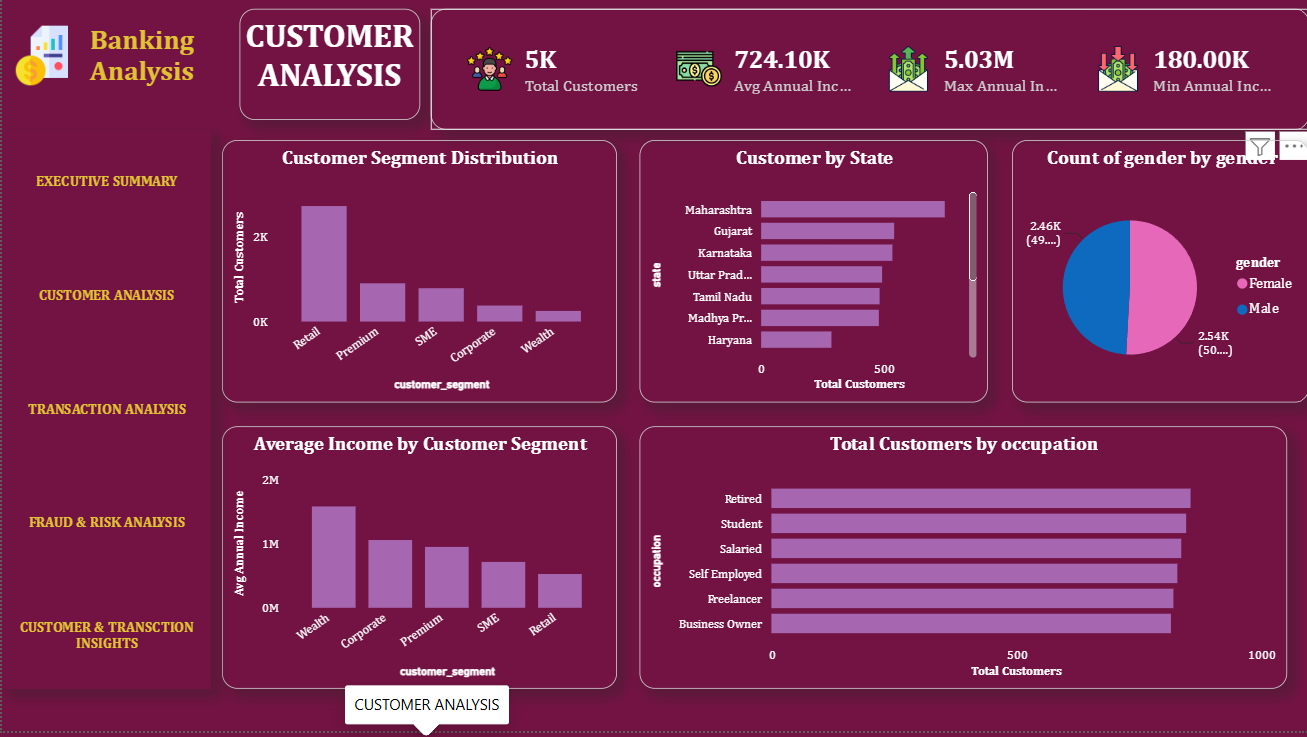

Layout of this report page (visuals, bound fields, positions):
{"tool":"powerbi","page":{"name":"CUSTOMER ANALYSIS","canvas":[1280,720],"ordinal":1},"visuals":[{"type":"textbox","box":[232.1,13.6,176.5,108.6],"z":0},{"type":"cardVisual","fields":{"Data":["finance_transactions.Total Customers","finance_transactions.Avg Annual Income","finance_transactions.Max Annual Income","finance_transactions.Min Annual Income"]},"box":[419.8,13.6,860.5,118.5],"z":1000},{"type":"columnChart","title":"Customer Segment Distribution","fields":{"Category":["customers.customer_segment"],"Y":["finance_transactions.Total Customers"]},"box":[215.2,141.8,386.4,256.8],"z":2000},{"type":"barChart","title":"Customer by State","fields":{"Category":["customers.state"],"Y":["finance_transactions.Total Customers"]},"box":[623.6,141.8,341.2,256.8],"z":3000},{"type":"columnChart","title":"Average Income by Customer Segment","fields":{"Y":["finance_transactions.Average Annual Income"],"Category":["customers.customer_segment"]},"box":[215.2,421.9,386.4,256.8],"z":4000},{"type":"barChart","fields":{"Category":["customers.occupation"],"Y":["finance_transactions.Total Customers"]},"box":[623.6,421.9,633.4,256.8],"z":5000},{"type":"shape","box":[0,0,205.4,720.2],"z":6000},{"type":"textbox","box":[68.5,22,137,86.8],"z":7000},{"type":"image","box":[9.8,22,58.7,74.6],"z":8000},{"type":"pageNavigator","box":[0,132.5,205,546.2],"z":9000},{"type":"pieChart","fields":{"Y":["CountNonNull(customers.gender)"],"Category":["customers.gender"]},"box":[988,141.8,292.3,256.8],"z":10000}]}

Visuals, with their boxes on the page's 1280x720 design canvas (x1, y1, x2, y2). These are canvas units, not pixel positions in the 1307x737 screenshot, which may show the page scaled, cropped or inside an application window:
textbox: box=[232, 14, 409, 122]
cardVisual - finance_transactions.Total Customers x finance_transactions.Avg Annual Income: box=[420, 14, 1280, 132]
"Customer Segment Distribution" columnChart: box=[215, 142, 602, 399]
"Customer by State" barChart: box=[624, 142, 965, 399]
"Average Income by Customer Segment" columnChart: box=[215, 422, 602, 679]
barChart - customers.occupation x finance_transactions.Total Customers: box=[624, 422, 1257, 679]
shape: box=[0, 0, 205, 720]
textbox: box=[68, 22, 206, 109]
image: box=[10, 22, 68, 97]
pageNavigator: box=[0, 132, 205, 679]
pieChart - CountNonNull(customers.gender) x customers.gender: box=[988, 142, 1280, 399]
